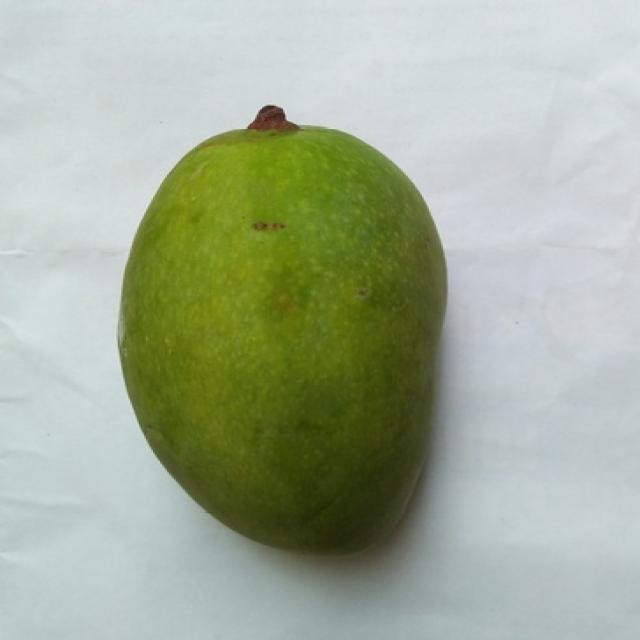Mango: (118, 121, 445, 552)
